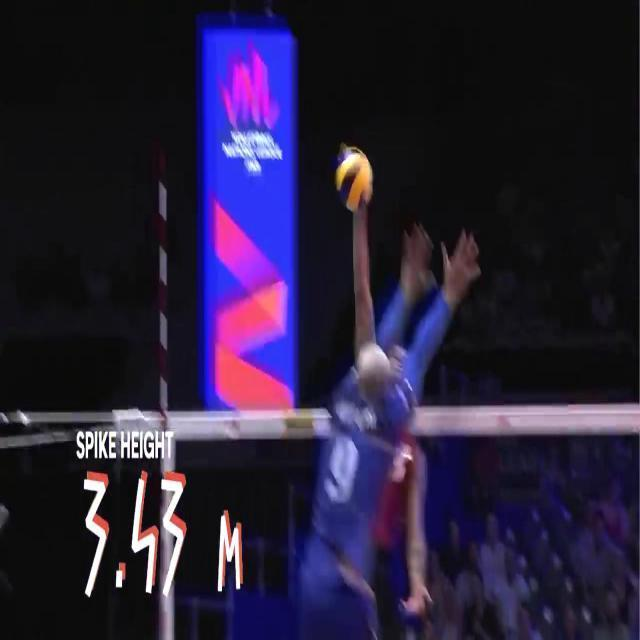volleyball: (334, 146, 374, 212)
